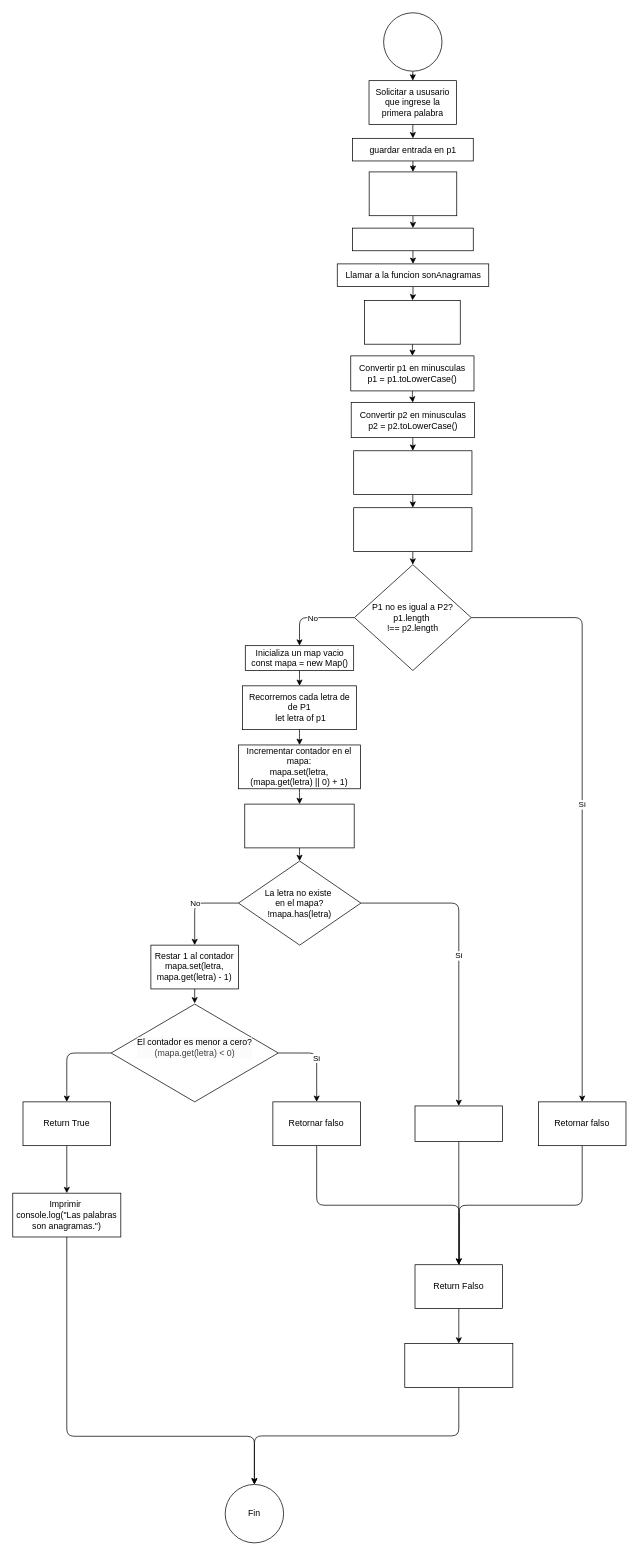
This 639x1556 diagram has some shape labels left out. Each missing label, with the box of its shape:
Definir la funcion sonAnagramas(p1, p2): (364, 300, 460, 344)
Eliminar espacios en blanco p1 = p1.replace(/\s+/g, "");: (353, 450, 472, 495)
Eliminar espacios en blanco p2 = p2.replace(/\s+/g, "");: (353, 507, 472, 552)
guardar entrada en p2: (352, 227, 473, 251)
Imprimir console.log("Las palabras no son anagramas."): (404, 1343, 513, 1387)
INICIO: (383, 12, 442, 71)
Letra no encontrada return false: (414, 1105, 503, 1142)
Recorremos cada letra de de P2 let letra of p2: (244, 803, 354, 848)
Solicitar a ususario que ingrese la segunda palabra: (368, 171, 457, 216)
